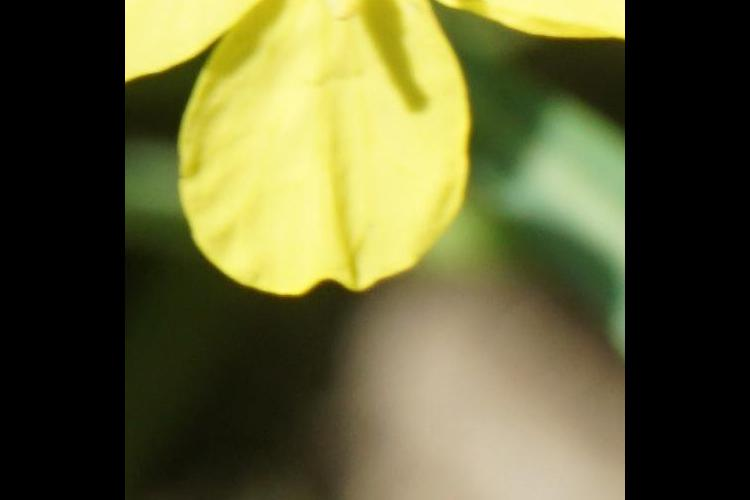yellow: (128, 1, 623, 309)
